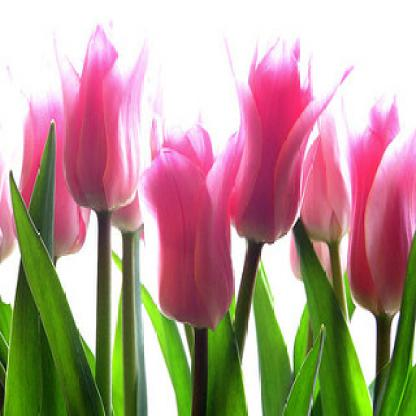TULIP: (15, 19, 413, 410)
